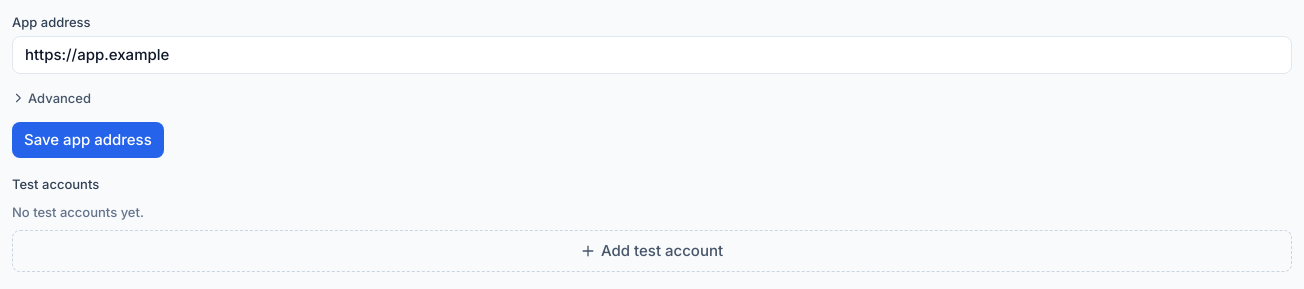
Test case: AppSetup: the saved note › shows "Saved" only once the panel has reloaded after the save
Click the button "Save app address". click: coordinates (88, 140)
box: [12, 122, 164, 158]
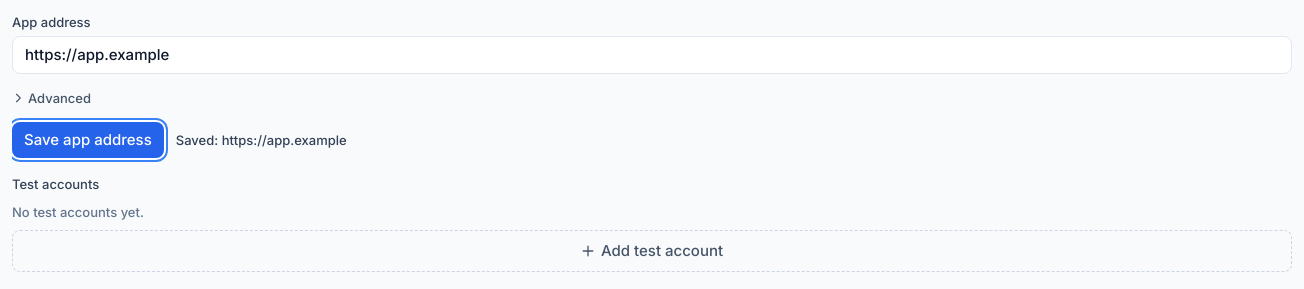
Check: the message reads "Saved: https://app.example", box [176, 130, 347, 150]
